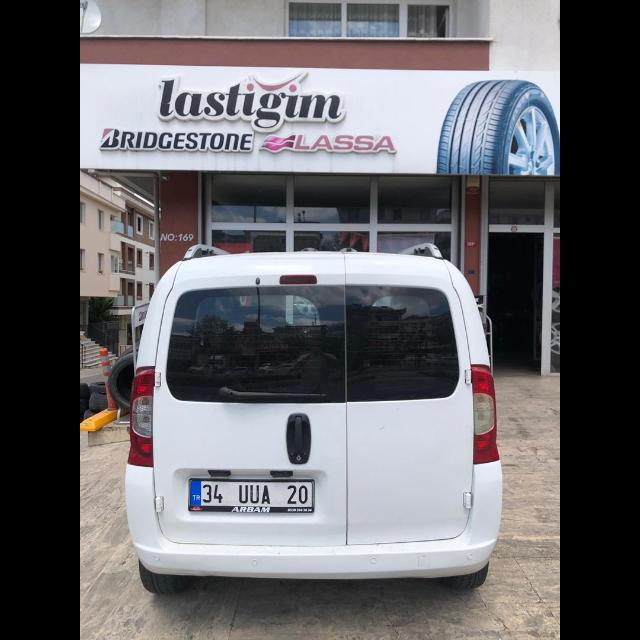Plaka: (188, 481, 312, 507)
